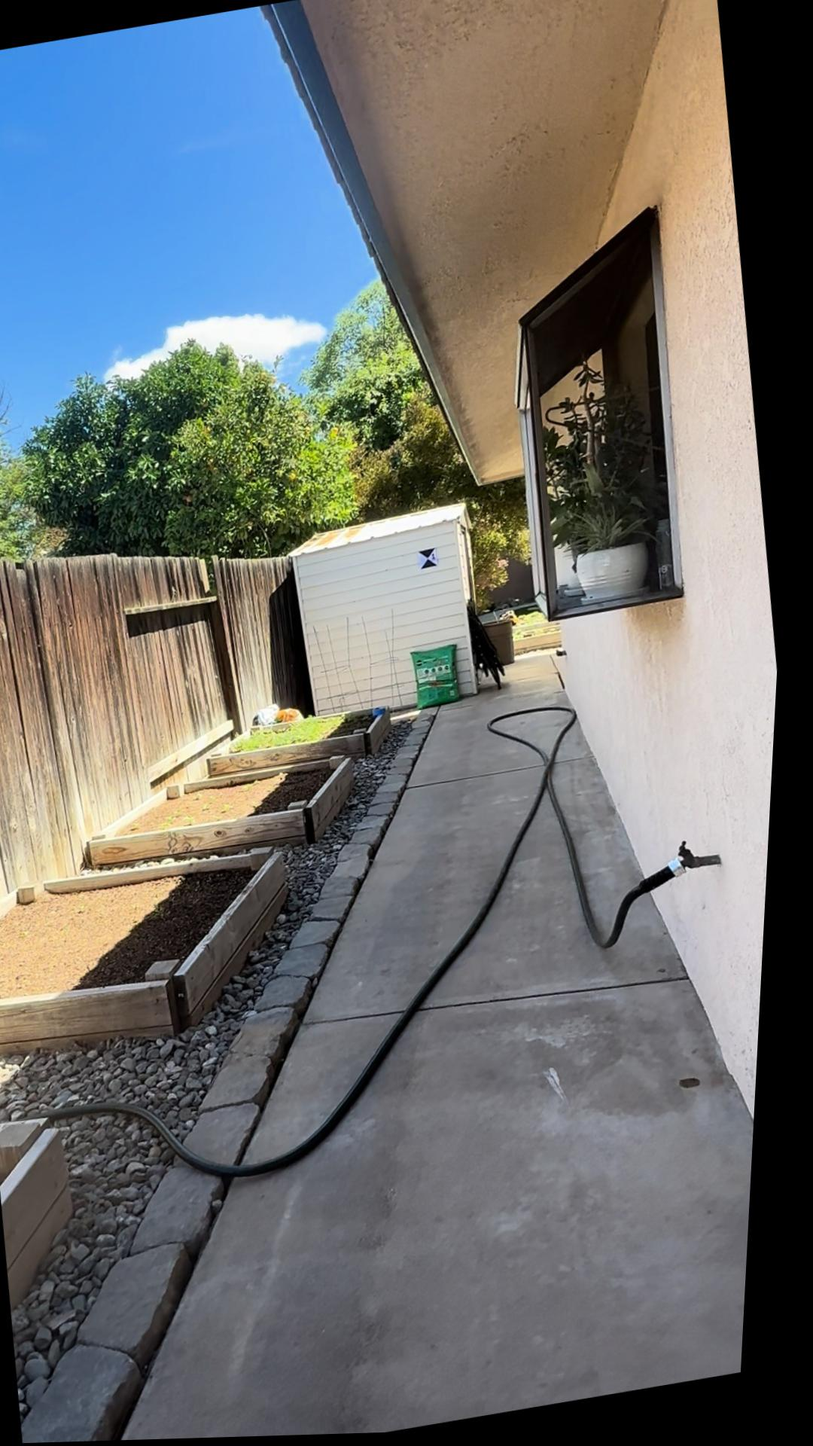target1: (415, 545, 441, 571)
